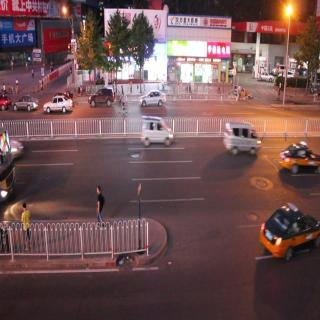Car: (262, 201, 319, 255), (280, 140, 320, 176), (225, 120, 262, 156), (141, 116, 174, 147), (88, 86, 115, 111), (43, 96, 73, 114), (138, 89, 166, 108), (13, 94, 38, 115)
